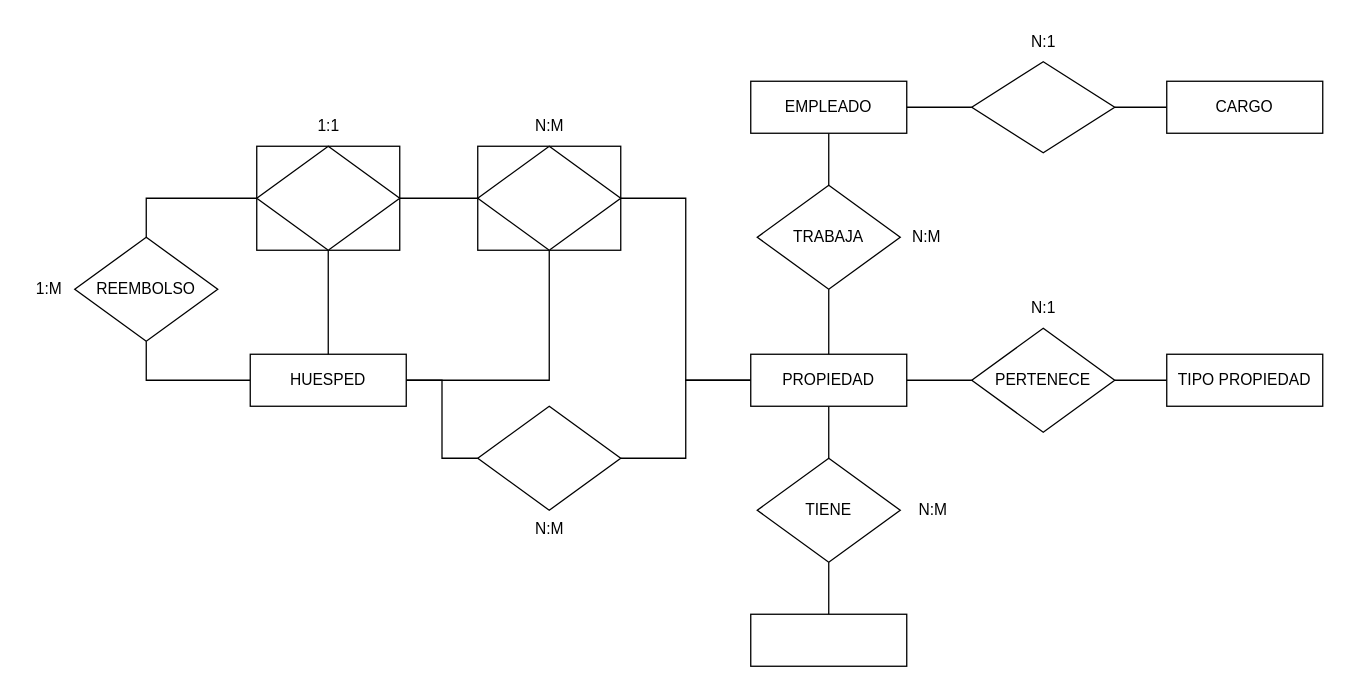
The diagram is 1346 pixels wide and 689 high, and some of its shapes have lost their labels. The centre of each missing label's shape, as x and y in pixels:
PAGO: the point at 327,197
POSEE: the point at 1042,106
RESERVA: the point at 548,197
RESEÑA: the point at 548,457
SERVICIOS ADICIONALES: the point at 828,639
